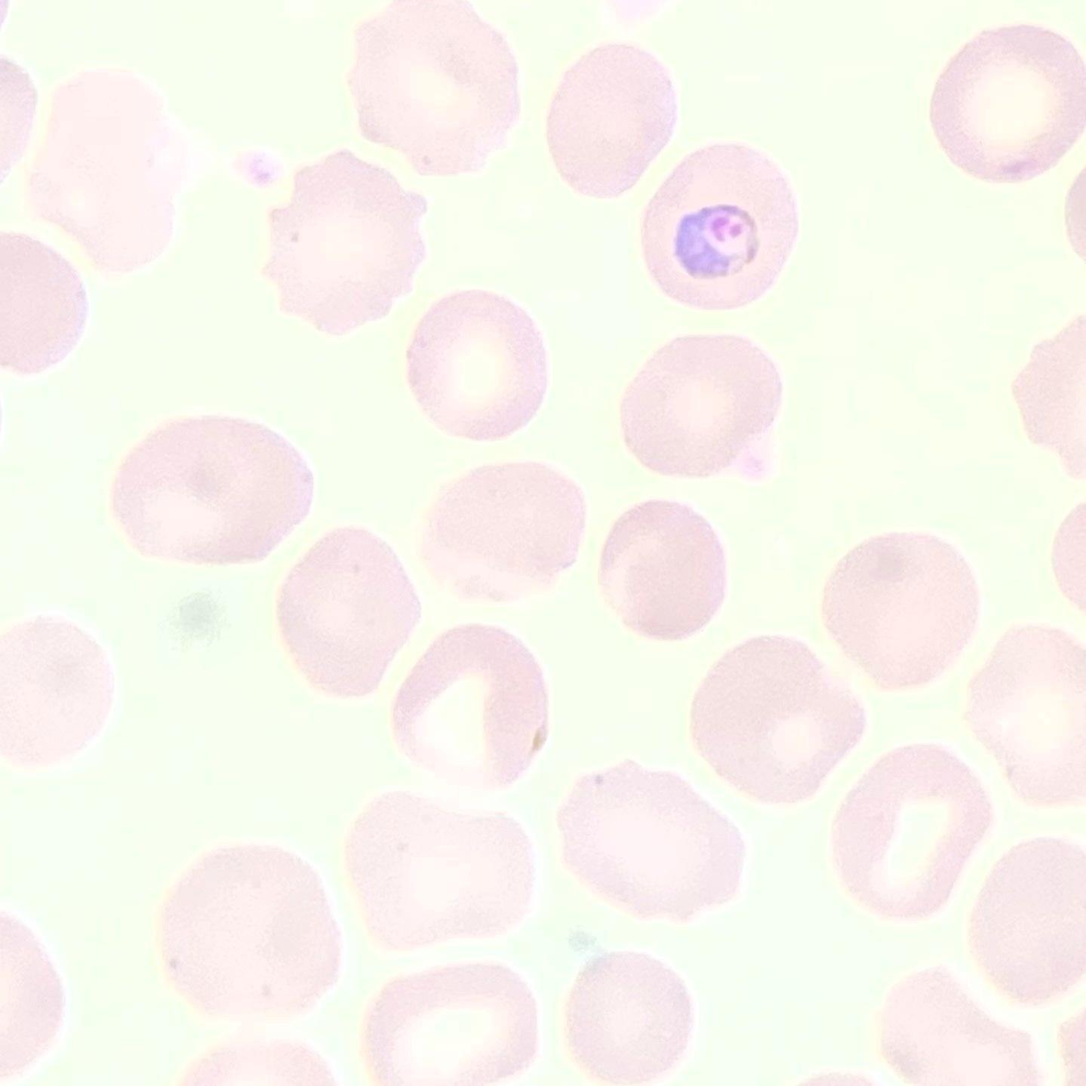Infected: (641, 143, 798, 314)
Uninfected: (25, 68, 198, 275), (156, 841, 343, 1022), (344, 789, 535, 953), (109, 415, 309, 571), (555, 758, 744, 922), (264, 151, 433, 333), (347, 1, 518, 177), (690, 635, 863, 807), (830, 745, 993, 920), (389, 626, 549, 792), (275, 526, 424, 700), (823, 531, 982, 692), (930, 23, 1086, 181), (619, 334, 780, 481), (419, 462, 583, 602), (360, 962, 540, 1086), (403, 291, 547, 440), (545, 44, 676, 195), (876, 968, 1040, 1085), (601, 499, 730, 644), (561, 952, 694, 1086)
